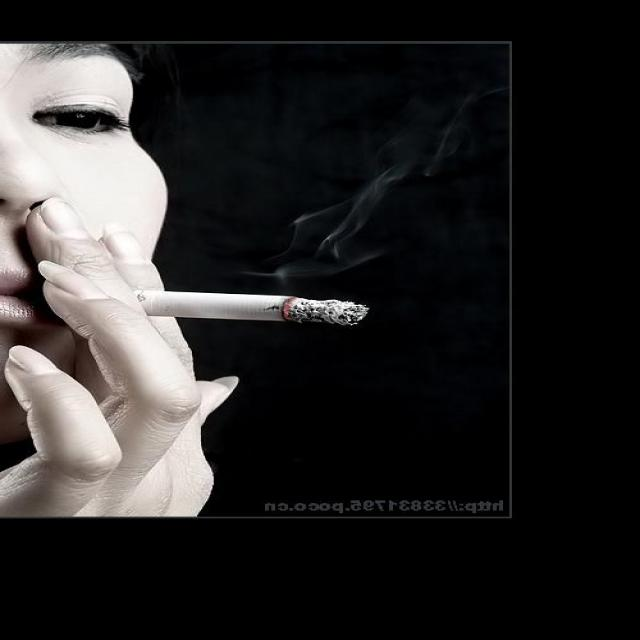smoking: (117, 276, 386, 332)
